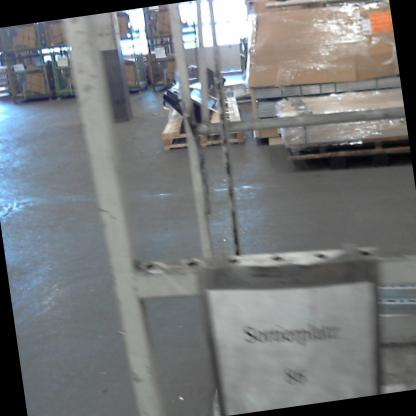pallet: (282, 119, 409, 176), (152, 79, 247, 153), (0, 87, 18, 99), (0, 76, 15, 86), (0, 71, 12, 81), (0, 82, 15, 90), (0, 64, 11, 72)
stillage: (2, 47, 59, 110), (47, 39, 91, 104), (144, 40, 188, 94), (0, 21, 51, 62), (117, 45, 152, 101), (139, 3, 181, 44), (42, 20, 77, 56), (115, 8, 143, 46), (233, 34, 255, 75)
